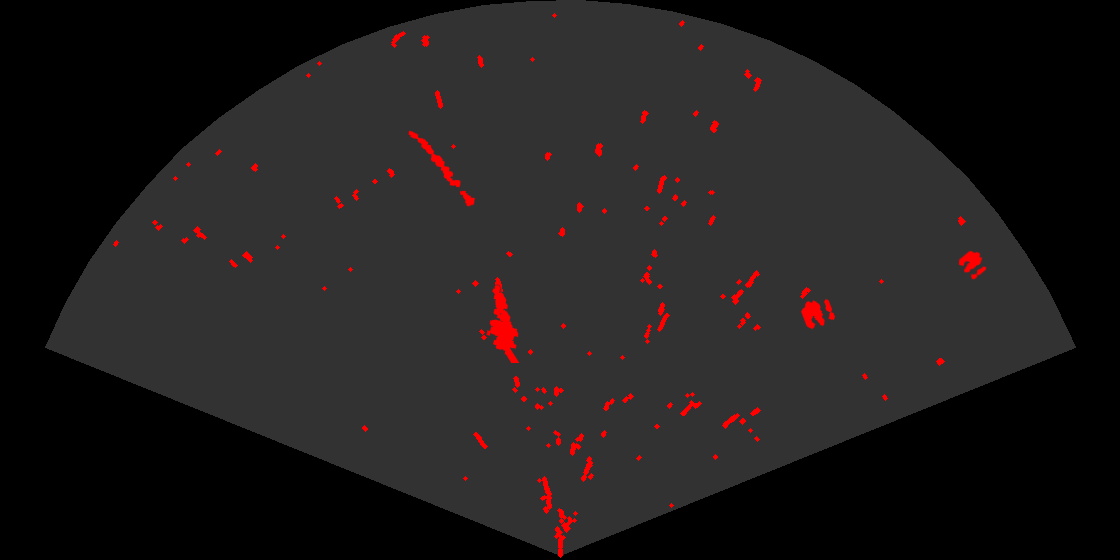ball: (799, 298, 837, 331), (957, 249, 988, 281)
chain: (407, 129, 477, 208)
frogman: (485, 284, 521, 363)
